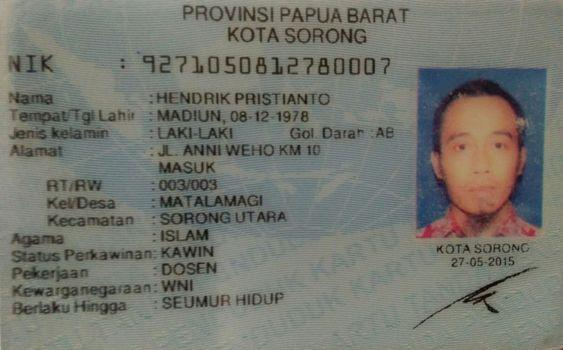ID-card: (4, 2, 560, 346)
